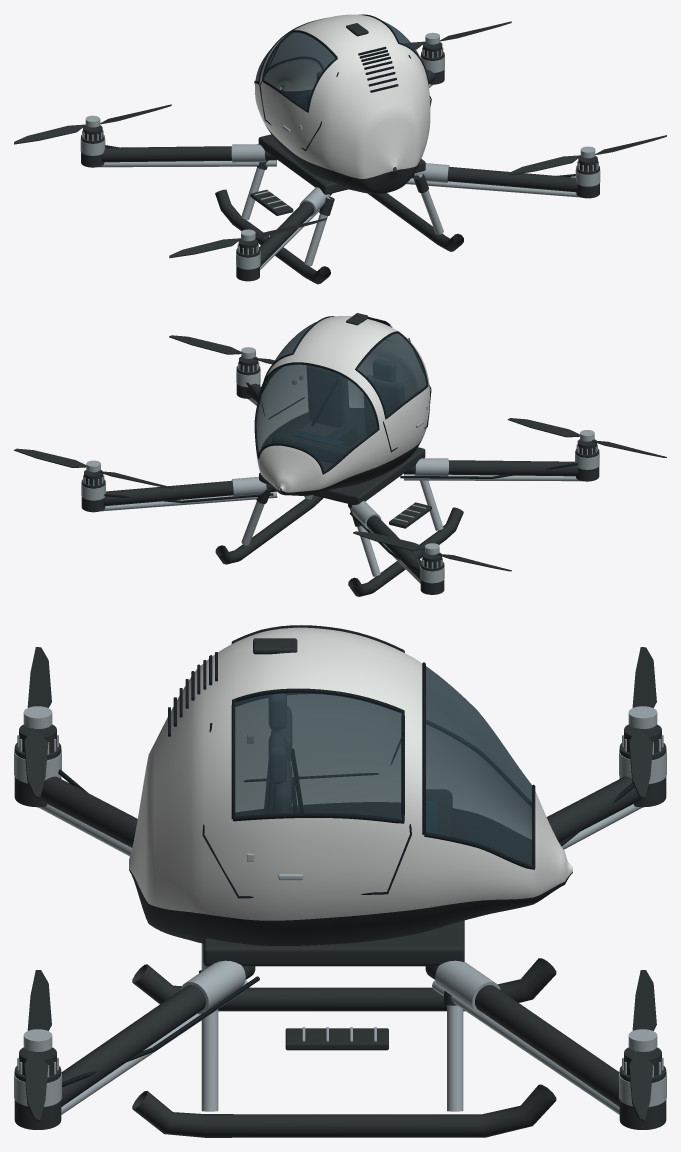
The model's file is taxi-r2-draco.glb.
3 views of the same model, one above another, from view 1: azimuth 30°, elevation 25°; view 2: azimuth 150°, elevation 25°; view 3: azimuth 270°, elevation 25° (orthographic). The views are drawn at different scales.
Parts seen in each view (by area): view 1: Taxi continuous cabin with real glazing, Taxi carbon main boom.001, Taxi carbon main boom.002, Taxi landing skid -1, Taxi cabin floor, Taxi landing skid 1, Taxi carbon main boom, Taxi boom lower brace.001, Taxi boom lower brace.002, Taxi machined root collar.001, Taxi window perimeter seal 1, Taxi boarding step -1 (+7 smaller); view 2: Taxi continuous cabin with real glazing, Taxi seat back 1, Taxi carbon main boom, Taxi carbon main boom.003, Taxi cabin floor, Taxi landing skid 1, Taxi landing skid -1, Taxi seat back -1, Taxi window perimeter seal 2, Taxi instrument coaming, Taxi carbon main boom.001, Taxi boom lower brace (+13 smaller); view 3: Taxi continuous cabin with real glazing, Taxi landing skid 1, Taxi landing skid -1, Taxi cabin floor, Taxi carbon main boom.003, Taxi carbon main boom.002, Taxi carbon main boom, Taxi window perimeter seal 0, Taxi carbon main boom.001, Taxi boarding step 1, Taxi window perimeter seal 2, Taxi landing strut.003 (+22 smaller).
Part boxes in pixels (box(x1,y1,x2,y2)): Taxi continuous cabin with real glazing: box(255, 14, 430, 193); Taxi carbon main boom.001: box(101, 146, 276, 162); Taxi carbon main boom.002: box(411, 166, 578, 192); Taxi landing skid -1: box(215, 189, 330, 284); Taxi cabin floor: box(258, 134, 425, 194); Taxi landing skid 1: box(367, 193, 463, 251); Taxi carbon main boom: box(259, 193, 332, 266); Taxi boom lower brace.001: box(98, 160, 276, 167); Taxi boom lower brace.002: box(406, 178, 580, 197); Taxi machined root collar.001: box(231, 144, 265, 162); Taxi window perimeter seal 1: box(262, 30, 337, 112); Taxi boarding step -1: box(250, 189, 293, 215); Taxi continuous cabin with real glazing: box(255, 316, 429, 495); Taxi seat back 1: box(307, 365, 349, 427); Taxi carbon main boom: box(403, 460, 578, 476); Taxi carbon main boom.003: box(103, 480, 277, 505); Taxi cabin floor: box(259, 432, 425, 504); Taxi landing skid 1: box(215, 495, 323, 564); Taxi landing skid -1: box(348, 507, 463, 596); Taxi seat back -1: box(364, 375, 404, 434); Taxi window perimeter seal 2: box(254, 362, 379, 474); Taxi instrument coaming: box(272, 430, 352, 463); Taxi carbon main boom.001: box(348, 504, 421, 580); Taxi boom lower brace: box(403, 474, 582, 481); Taxi continuous cabin with real glazing: box(129, 627, 572, 945); Taxi landing skid 1: box(132, 1084, 556, 1137); Taxi landing skid -1: box(132, 958, 556, 1011); Taxi cabin floor: box(203, 920, 464, 966); Taxi carbon main boom.003: box(425, 966, 619, 1106); Taxi carbon main boom.002: box(61, 966, 255, 1106); Taxi carbon main boom: box(40, 776, 137, 847); Taxi window perimeter seal 0: box(231, 688, 404, 823); Taxi carbon main boom.001: box(546, 776, 641, 842); Taxi boarding step 1: box(285, 1028, 388, 1050); Taxi window perimeter seal 2: box(422, 662, 535, 869); Taxi landing strut.003: box(447, 1005, 463, 1111).
Size of what is drawn, in the model's own units: 7.04 by 2.98 by 4.1.
